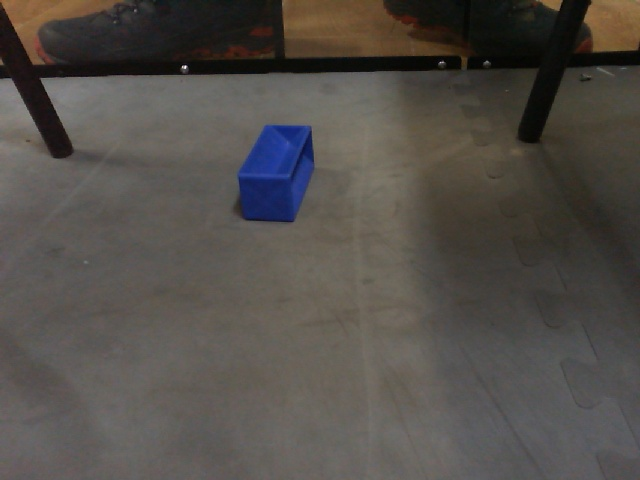BlueSample: (236, 122, 316, 225)
